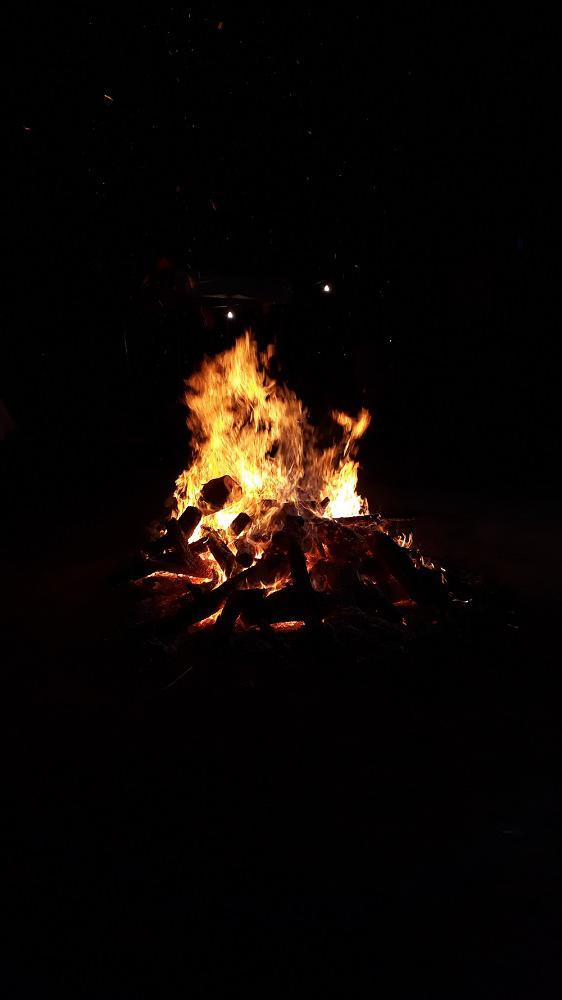Fire: (143, 333, 450, 590)
